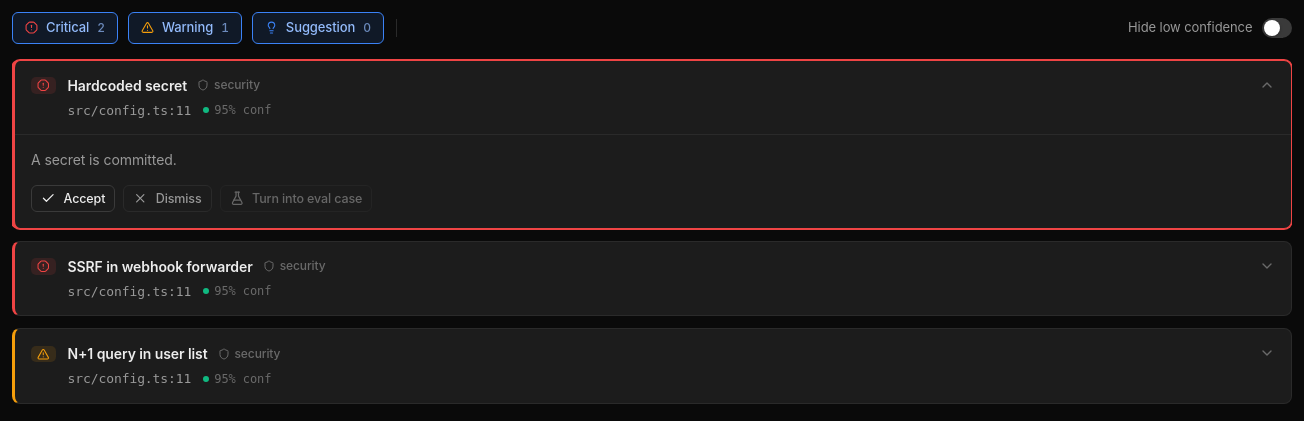
Test: FindingsPanel severity counters › restores the findings when the same chip is clicked again
The image size is (1304, 421).
Click the button "Warning 1": [185, 28] box [128,12,242,44]
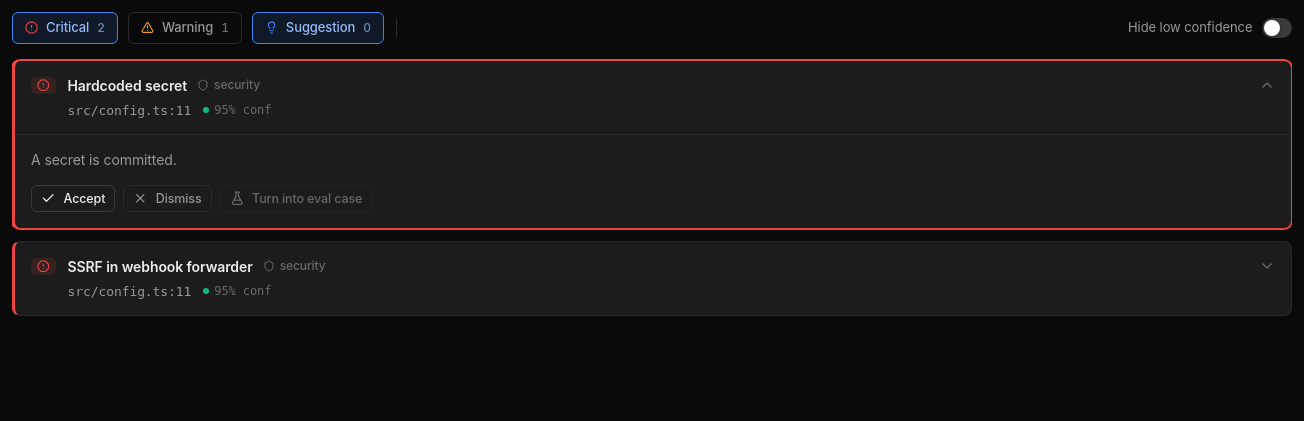
Click the button "Warning 1": [185, 28] box [128,12,242,44]
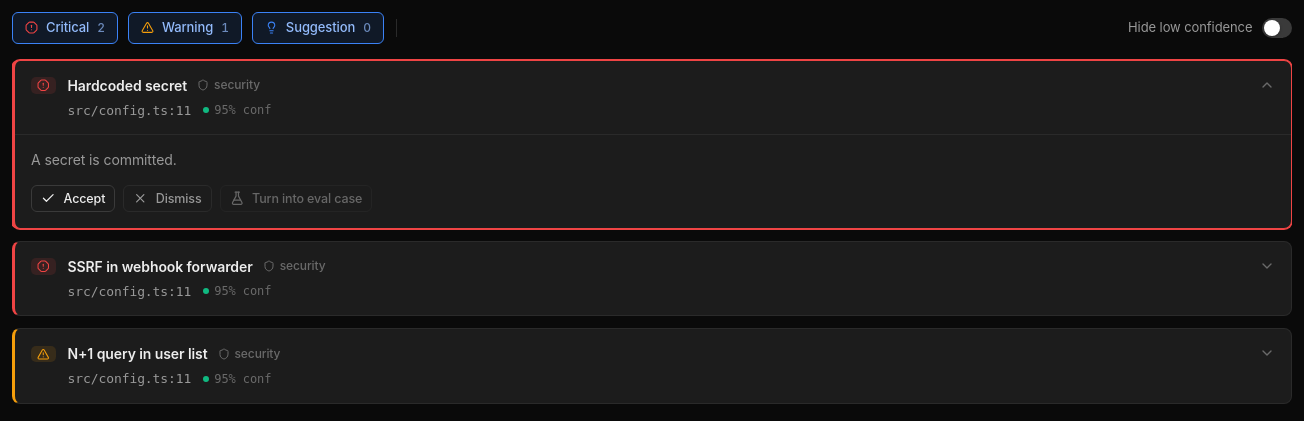
Now the text "N+1 query in user list" is shown, box [68,343,208,364]
